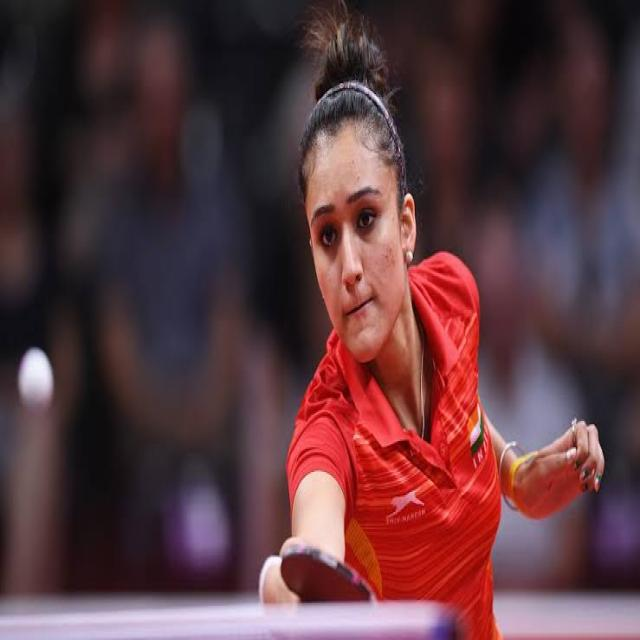TT Racket: (271, 514, 390, 638)
